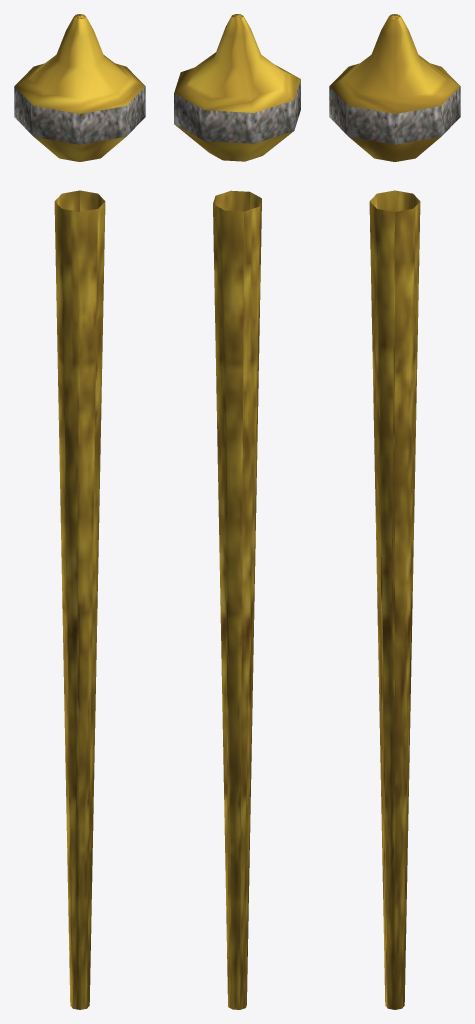
The model's file is moch_mace_champ.dae.
3 renders of one model, left to right at view 1: azimuth 90°, elevation 25°; view 2: azimuth 150°, elevation 25°; view 3: azimuth 270°, elevation 25°, orthographic.
Parts seen in each view (by area): view 1: maca_camp; view 2: maca_camp; view 3: maca_camp.
Part boxes in pixels (x1=…): maca_camp: x1=14, y1=14, x2=145, y2=1009; maca_camp: x1=174, y1=14, x2=300, y2=1009; maca_camp: x1=329, y1=14, x2=460, y2=1009.
Bounding box in the file's own units: 0.4407 × 0.4407 × 3.66.
